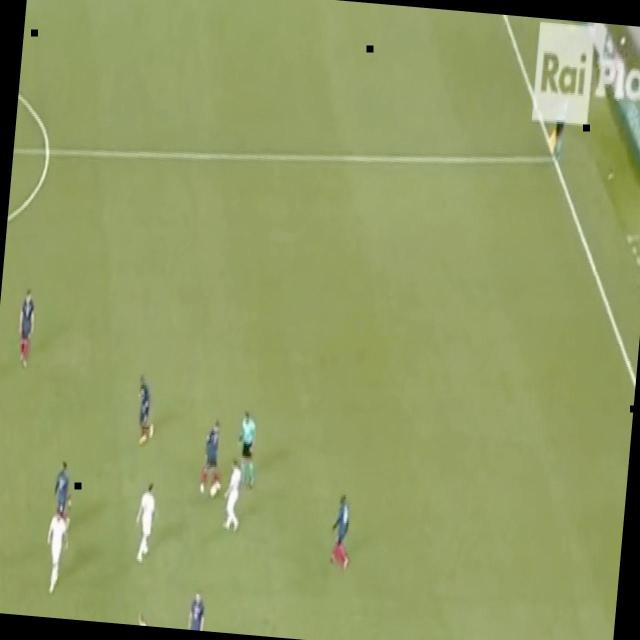ball: (209, 480, 219, 502), (618, 34, 628, 48)
player-white: (231, 407, 263, 496), (41, 505, 71, 596), (129, 478, 159, 566), (196, 414, 226, 502), (129, 368, 161, 450), (219, 454, 247, 536), (328, 491, 356, 573), (13, 286, 39, 372), (50, 456, 76, 520), (546, 100, 570, 162), (184, 587, 208, 631), (124, 606, 154, 626)
